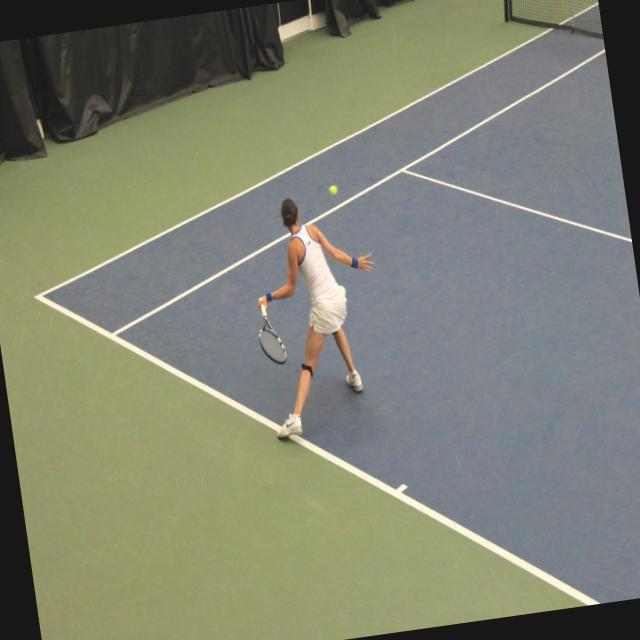Tennis Ball: (329, 182, 337, 195), (329, 184, 338, 194)
